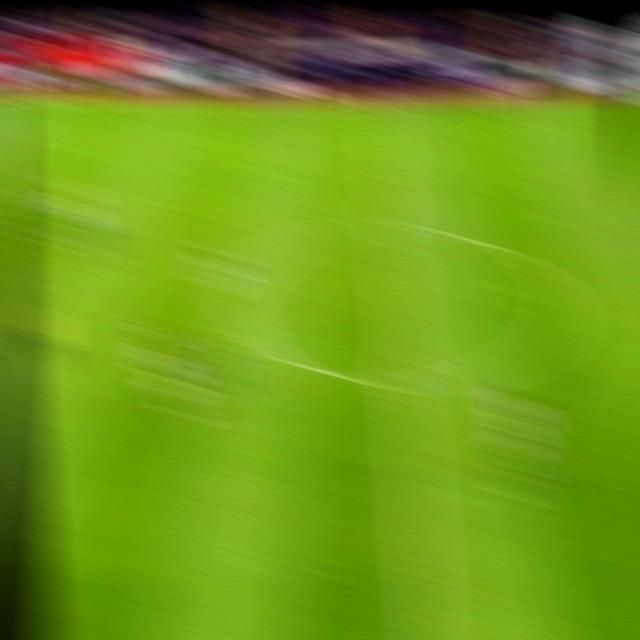halfcircle_bottom: (378, 360, 430, 406)
halfcircle_top: (365, 208, 418, 250)
midline_top_intersection: (362, 85, 407, 123)
